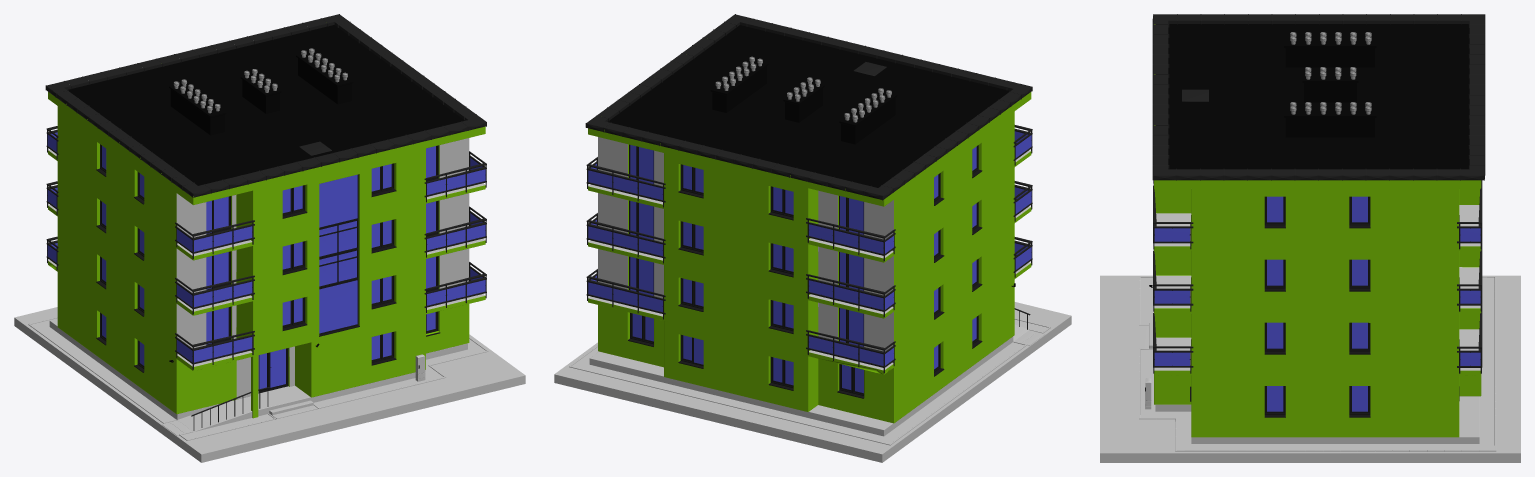
3 views of the same model, side by side, from view 1: azimuth 30°, elevation 25°; view 2: azimuth 150°, elevation 25°; view 3: azimuth 270°, elevation 25° (orthographic). The views are drawn at different scales.
Visible parts, largest first — view 1: WALLS, Cube.010, Plane, fundament, Plane.013, Plane.004, Plane.003, Cube.003, Plane.002, Plane.001, Window, Window.001 (+26 smaller); view 2: WALLS, Cube.010, Plane, fundament, Plane.013, Plane.003, Cube.003, Plane.004, Plane.002, Plane.001, barierka.020, barierka.018 (+28 smaller); view 3: WALLS, Cube.010, Plane, Plane.013, Cube.003, Plane.001, fundament, Plane.002, Plane.003, Plane.004, Cube.005, Window.034 (+20 smaller).
Boxes of the visible parts, x1,y1,x2,y2 form: WALLS: (48,92,485,418); Cube.010: (66,24,464,195); Plane: (14,307,525,462); fundament: (49,318,467,431); Plane.013: (31,318,485,439); Plane.004: (187,117,486,197); Plane.003: (45,14,345,90); Cube.003: (169,52,353,135); Plane.002: (46,86,204,197); Plane.001: (327,14,485,124); Window: (319,279,359,336); Window.001: (319,174,358,228); WALLS: (588,92,1031,423); Cube.010: (604,25,1010,188); Plane: (554,302,1071,462); fundament: (589,324,1028,436); Plane.013: (571,319,1048,443); Plane.003: (586,118,889,200); Cube.003: (710,60,897,144); Plane.004: (728,14,1029,90); Plane.002: (878,83,1032,199); Plane.001: (585,14,746,127); barierka.020: (809,224,893,253); barierka.018: (809,336,893,365); WALLS: (1154,24,1481,437); Cube.010: (1156,24,1469,169); Plane: (1100,275,1520,462); Plane.013: (1140,277,1494,449); Cube.003: (1284,37,1376,137); Plane.001: (1153,168,1484,180); fundament: (1155,396,1479,443); Plane.002: (1153,14,1469,24); Plane.003: (1468,14,1485,178); Plane.004: (1152,14,1169,179); Cube.005: (1302,72,1358,102); Window.034: (1349,196,1370,228).
Bounding box in the file's own units: 20.58 × 16.7 × 20.58.
